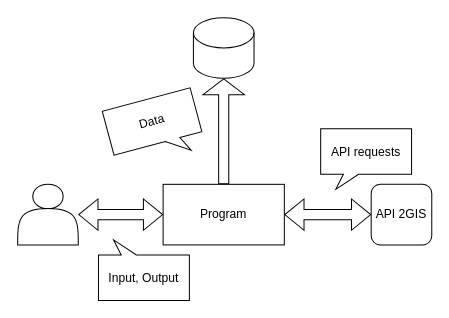
This 449x318 diagram has some shape labels left out. Each missing label, with the centre of its shape:
"EXCEL" goes at point 223,47.
"User" goes at point 47,214.
